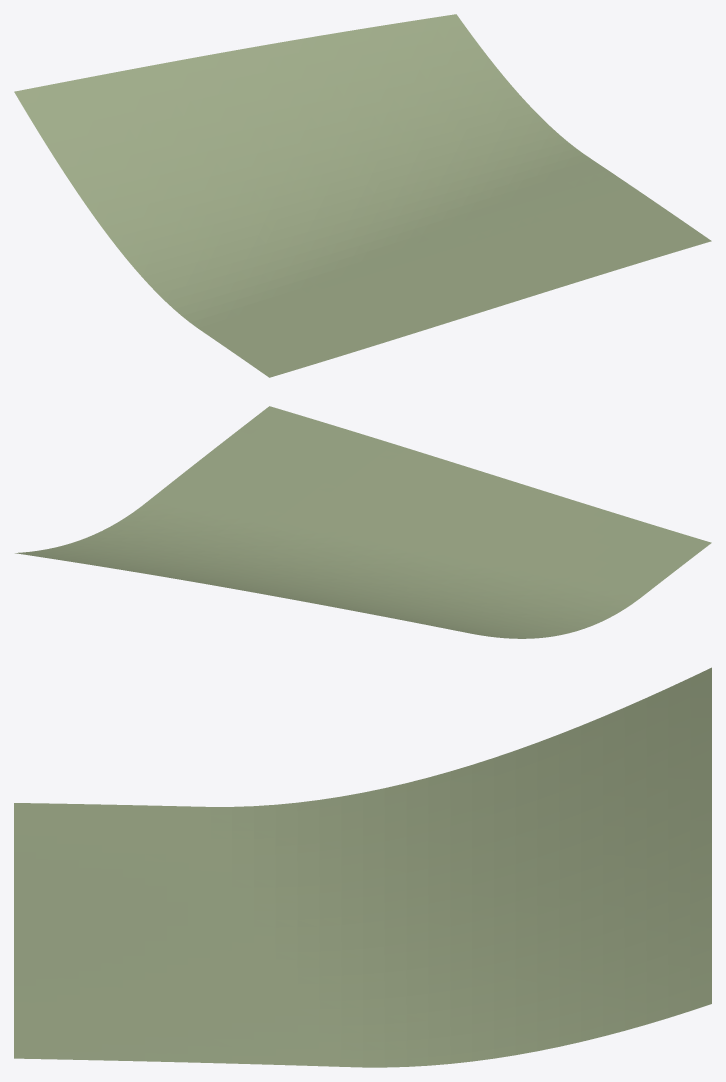
Rendered from expanse-20-10.glb.
3 views of the same model, one above another, from view 1: azimuth 30°, elevation 25°; view 2: azimuth 150°, elevation 25°; view 3: azimuth 270°, elevation 25° (orthographic). The views are drawn at different scales.
Parts seen in each view (by area): view 1: expanse-20-10; view 2: expanse-20-10; view 3: expanse-20-10.
Boxes of the visible parts, bbox=[...] form: expanse-20-10: bbox=[14, 14, 711, 377]; expanse-20-10: bbox=[15, 406, 711, 638]; expanse-20-10: bbox=[14, 667, 711, 1067].
Size of the model in its own units: 256 by 56.45 by 256.
